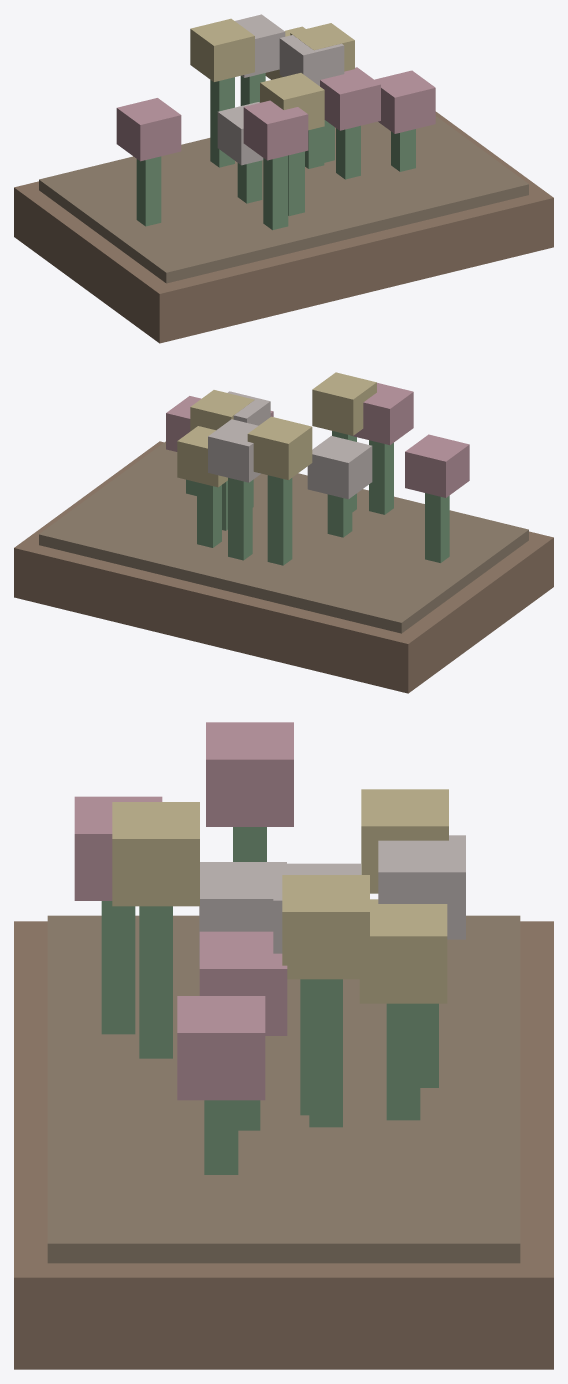
File: canteiro_flores.glb
The picture shows the model from 3 angles, top to bottom: view 1: azimuth 30°, elevation 25°; view 2: azimuth 150°, elevation 25°; view 3: azimuth 270°, elevation 25°; orthographic projection. The views are drawn at different scales.
Parts seen in each view (by area): view 1: part_001, part_000, part_009, part_023, part_003, part_015, part_021, part_013, part_011, part_002, part_008, part_007 (+10 smaller); view 2: part_001, part_000, part_009, part_019, part_023, part_011, part_003, part_007, part_022, part_006, part_017, part_002 (+6 smaller); view 3: part_001, part_000, part_021, part_009, part_011, part_005, part_017, part_007, part_015, part_023, part_019, part_010 (+9 smaller).
Part boxes in pixels (x1=…): part_001: x1=39, y1=116, x2=528, y2=283; part_000: x1=14, y1=111, x2=553, y2=343; part_009: x1=116, y1=98, x2=181, y2=161; part_023: x1=190, y1=18, x2=254, y2=81; part_003: x1=243, y1=100, x2=308, y2=160; part_015: x1=320, y1=67, x2=380, y2=130; part_021: x1=374, y1=70, x2=435, y2=133; part_013: x1=279, y1=35, x2=344, y2=85; part_011: x1=260, y1=73, x2=324, y2=130; part_002: x1=263, y1=155, x2=288, y2=230; part_008: x1=136, y1=156, x2=161, y2=226; part_007: x1=235, y1=14, x2=285, y2=77; part_001: x1=39, y1=441, x2=528, y2=633; part_000: x1=14, y1=441, x2=553, y2=693; part_009: x1=405, y1=434, x2=469, y2=497; part_019: x1=307, y1=436, x2=372, y2=499; part_023: x1=247, y1=416, x2=312, y2=479; part_011: x1=312, y1=372, x2=376, y2=435; part_003: x1=351, y1=382, x2=413, y2=445; part_007: x1=208, y1=419, x2=260, y2=482; part_022: x1=267, y1=475, x2=292, y2=565; part_006: x1=228, y1=477, x2=252, y2=560; part_017: x1=177, y1=426, x2=227, y2=487; part_002: x1=369, y1=440, x2=393, y2=514; part_001: x1=47, y1=915, x2=520, y2=1263; part_000: x1=14, y1=921, x2=553, y2=1369; part_021: x1=177, y1=996, x2=265, y2=1100; part_009: x1=206, y1=722, x2=293, y2=826; part_011: x1=112, y1=802, x2=199, y2=906; part_005: x1=282, y1=875, x2=369, y2=979; part_017: x1=359, y1=899, x2=447, y2=1003; part_007: x1=378, y1=835, x2=465, y2=939; part_015: x1=199, y1=931, x2=287, y2=1035; part_023: x1=361, y1=789, x2=448, y2=893; part_019: x1=199, y1=862, x2=286, y2=965; part_010: x1=139, y1=906, x2=172, y2=1058.
Size of the model in its own units: 2.5 by 1.17 by 1.6.
